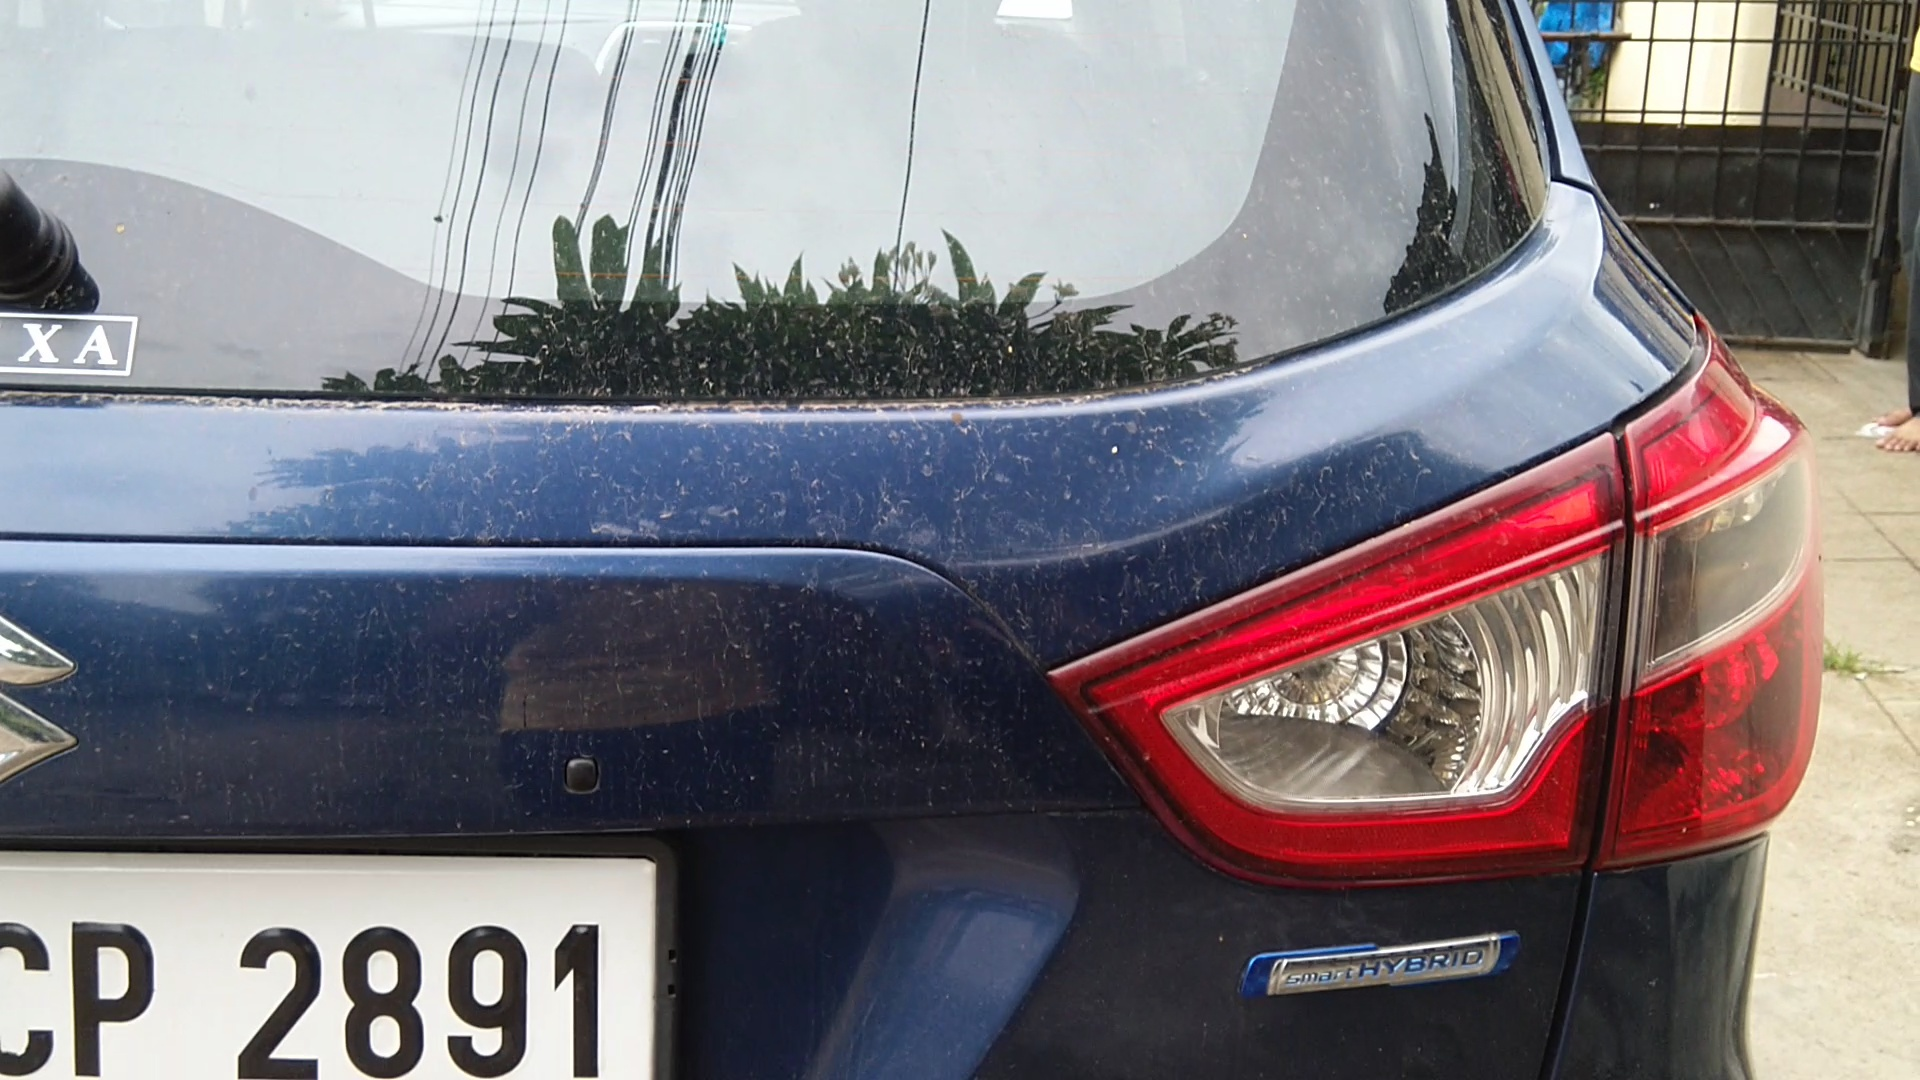shvs: (1236, 913, 1547, 1031)
